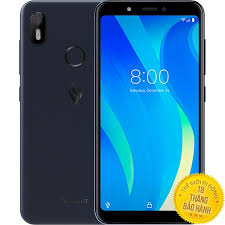vsmart: (93, 1, 205, 224), (15, 1, 98, 224)
